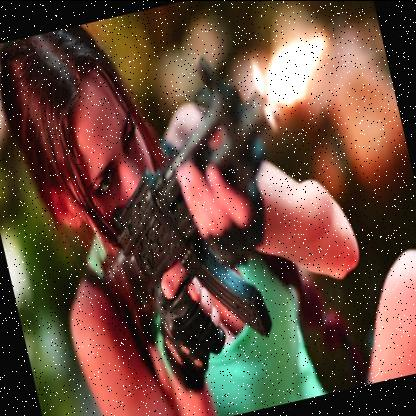rifle: (63, 41, 325, 373)
